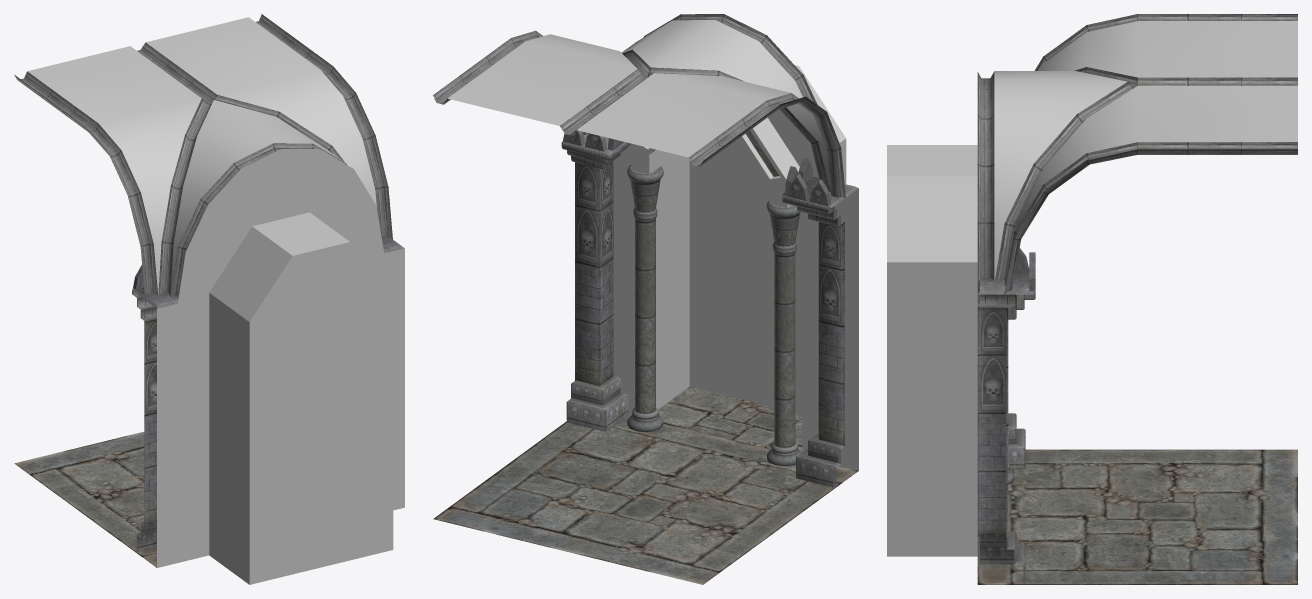
The model's file is Wall_Statue.FBX.
The picture shows the model from 3 angles, left to right: view 1: azimuth 30°, elevation 25°; view 2: azimuth 150°, elevation 25°; view 3: azimuth 270°, elevation 25°; orthographic projection. The views are drawn at different scales.
Visible parts, largest first — view 1: Wall_Statue; view 2: Wall_Statue; view 3: Wall_Statue.
Boxes of the visible parts, bbox=[...] form: Wall_Statue: bbox=[14, 14, 404, 584]; Wall_Statue: bbox=[433, 14, 858, 584]; Wall_Statue: bbox=[887, 14, 1297, 584].
Bounding box in the file's own units: 500 × 750 × 641.
